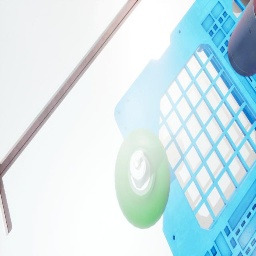0: (114, 128, 170, 229)
NitrogenTank ,: (228, 0, 256, 76)
